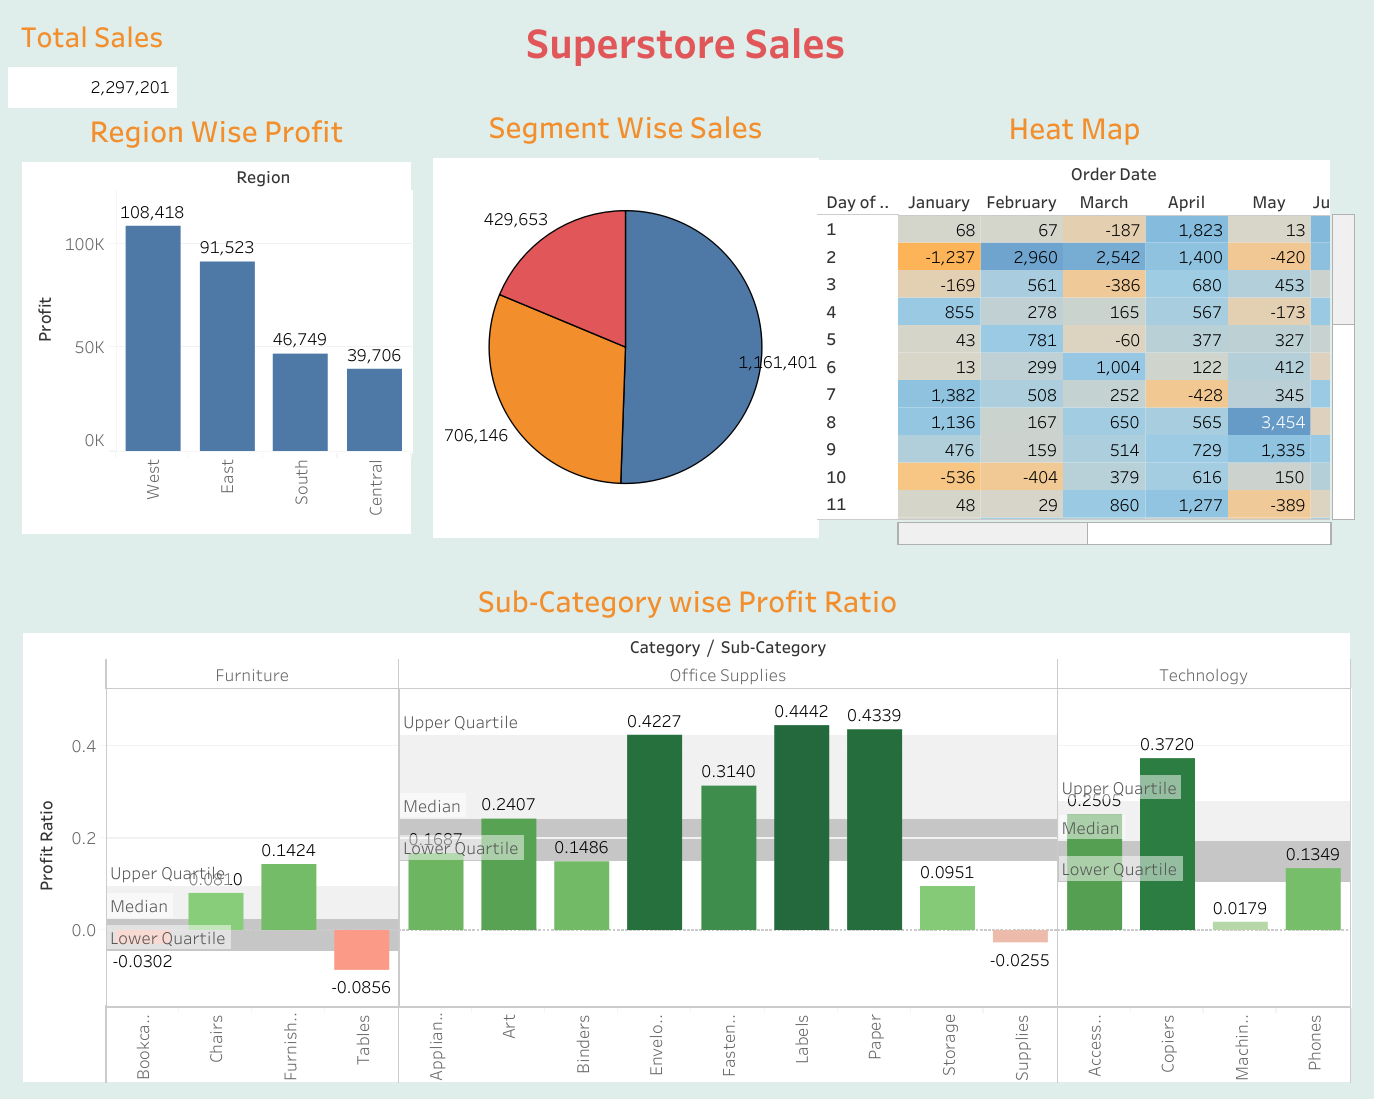

Layout of this report page (visuals, bound fields, positions):
{"tool":"tableau","page":{"name":"v) Dashboard","canvas":[1000,800],"ordinal":0},"visuals":[{"type":"worksheet","title":"Sheet 4","mark":"Text","box":[6,6,122,72]},{"type":"text","box":[9,10,979,40]},{"type":"worksheet","title":"ix)b] Pie Chart","mark":"Pie","box":[315,71,280,319]},{"type":"worksheet","title":"vi)a] Heat map","mark":"Square","rows":["Order Date"],"cols":["Order Date"],"box":[595,72,391,325]},{"type":"worksheet","title":"ix)a] Bar Chart","mark":"Automatic","rows":["Profit"],"cols":["Region"],"box":[16,74,283,314]},{"type":"worksheet","title":"viii) Distribution Band","mark":"Automatic","rows":["Calculation_69102145152688239"],"cols":["Category","Sub-Category"],"box":[17,416,966,372]}]}

Visuals, with their boxes in screenshot pixels (x1, y1, x2, y2), scaled from the page's 1000x800 canvas onto the 1374x1099 screenshot:
"Sheet 4" worksheet (Text marks): select_region(8, 8, 176, 107)
text: select_region(12, 14, 1358, 69)
"ix)b] Pie Chart" worksheet (Pie marks): select_region(433, 98, 818, 536)
"vi)a] Heat map" worksheet (Square marks): select_region(818, 99, 1355, 545)
"ix)a] Bar Chart" worksheet: select_region(22, 102, 411, 533)
"viii) Distribution Band" worksheet: select_region(23, 571, 1351, 1083)
